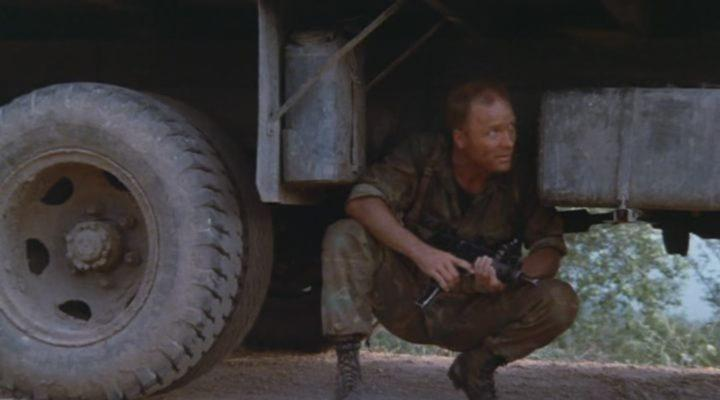gun: (396, 212, 549, 321)
